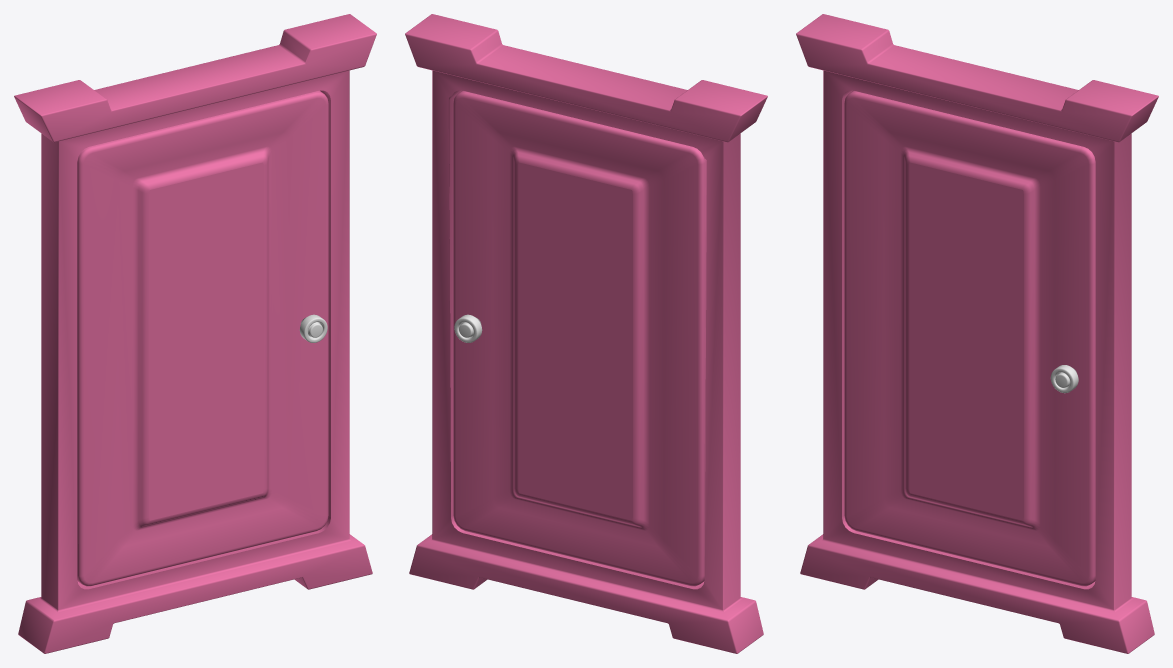
Rendered from door.glb.
3 renders of one model, left to right at view 1: azimuth 30°, elevation 25°; view 2: azimuth 150°, elevation 25°; view 3: azimuth 330°, elevation 25°, orthographic.
Visible parts, largest first — view 1: Cube, Cube.002; view 2: Cube, Cube.002; view 3: Cube, Cube.002.
Part boxes in pixels (box(x1,y1,x2,y2)): Cube: box(77, 90, 328, 586); Cube.002: box(14, 14, 376, 653); Cube: box(453, 90, 705, 586); Cube.002: box(405, 14, 767, 653); Cube: box(844, 90, 1095, 586); Cube.002: box(796, 14, 1158, 653).
Size of the model in its own units: 2.59 by 3.98 by 0.4999.
